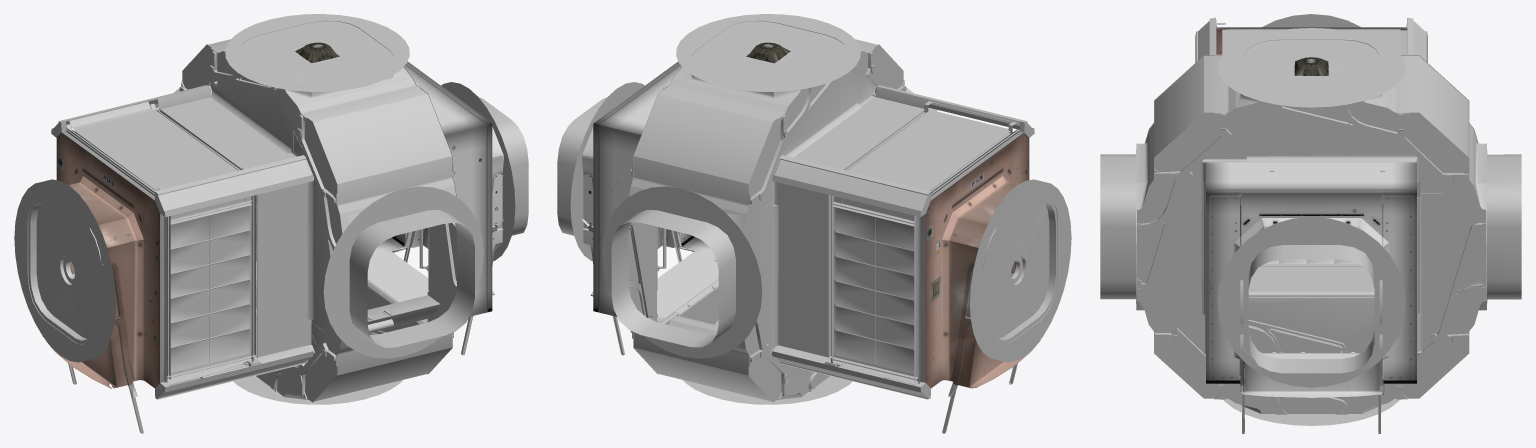
3 renders of one model, left to right at view 1: azimuth 30°, elevation 25°; view 2: azimuth 150°, elevation 25°; view 3: azimuth 270°, elevation 25°, orthographic.
Parts seen in each view (by area): view 1: Node1_Int_Metal_Hatch_Zenith; view 2: Node1_Int_Metal_Hatch_Zenith; view 3: Node1_Int_Metal_Hatch_Zenith.
Boxes of the visible parts, x1,y1,x2,y2 form: Node1_Int_Metal_Hatch_Zenith: (14, 14, 528, 433); Node1_Int_Metal_Hatch_Zenith: (557, 14, 1071, 433); Node1_Int_Metal_Hatch_Zenith: (1100, 14, 1521, 433).
Size of the model in its own units: 5.19 by 4.26 by 3.72.
